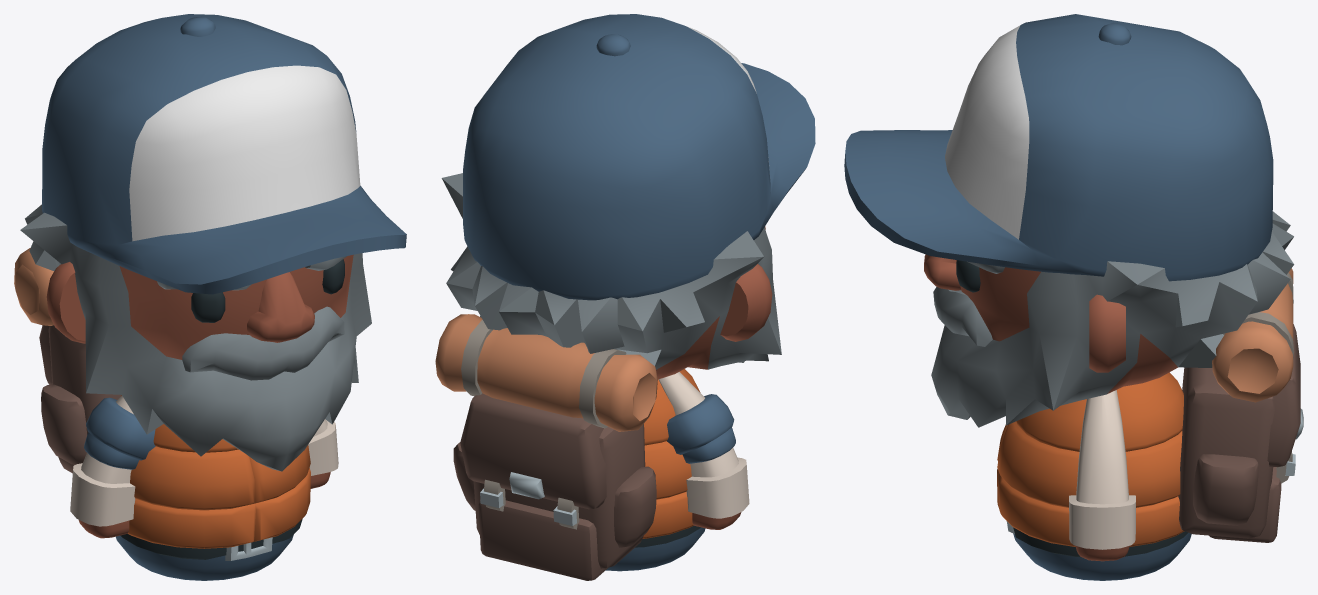
The model's file is character_survivor.fbx.
3 renders of one model, left to right at view 1: azimuth 30°, elevation 25°; view 2: azimuth 150°, elevation 25°; view 3: azimuth 270°, elevation 25°, orthographic. The views are drawn at different scales.
Visible parts, largest first — view 1: character_survivor_head, character_survivor_body, character_survivor_backpack, character_survivor_armRight, character_survivor_armLeft; view 2: character_survivor_head, character_survivor_backpack, character_survivor_armRight, character_survivor_body; view 3: character_survivor_head, character_survivor_backpack, character_survivor_body, character_survivor_armLeft.
Boxes of the visible parts, left/top/right/bottom form: character_survivor_head: left=20, top=14, right=406, bottom=471; character_survivor_body: left=116, top=395, right=310, bottom=580; character_survivor_backpack: left=14, top=248, right=121, bottom=473; character_survivor_armRight: left=70, top=396, right=155, bottom=538; character_survivor_armLeft: left=308, top=419, right=338, bottom=488; character_survivor_head: left=441, top=14, right=815, bottom=379; character_survivor_backpack: left=435, top=314, right=657, bottom=580; character_survivor_armRight: left=658, top=372, right=749, bottom=529; character_survivor_body: left=605, top=369, right=705, bottom=571; character_survivor_head: left=844, top=14, right=1294, bottom=427; character_survivor_backpack: left=1178, top=268, right=1303, bottom=542; character_survivor_body: left=997, top=372, right=1191, bottom=580; character_survivor_armLeft: left=1069, top=390, right=1135, bottom=561.
Bounding box in the file's own units: 1.27 × 1.91 × 1.52.
